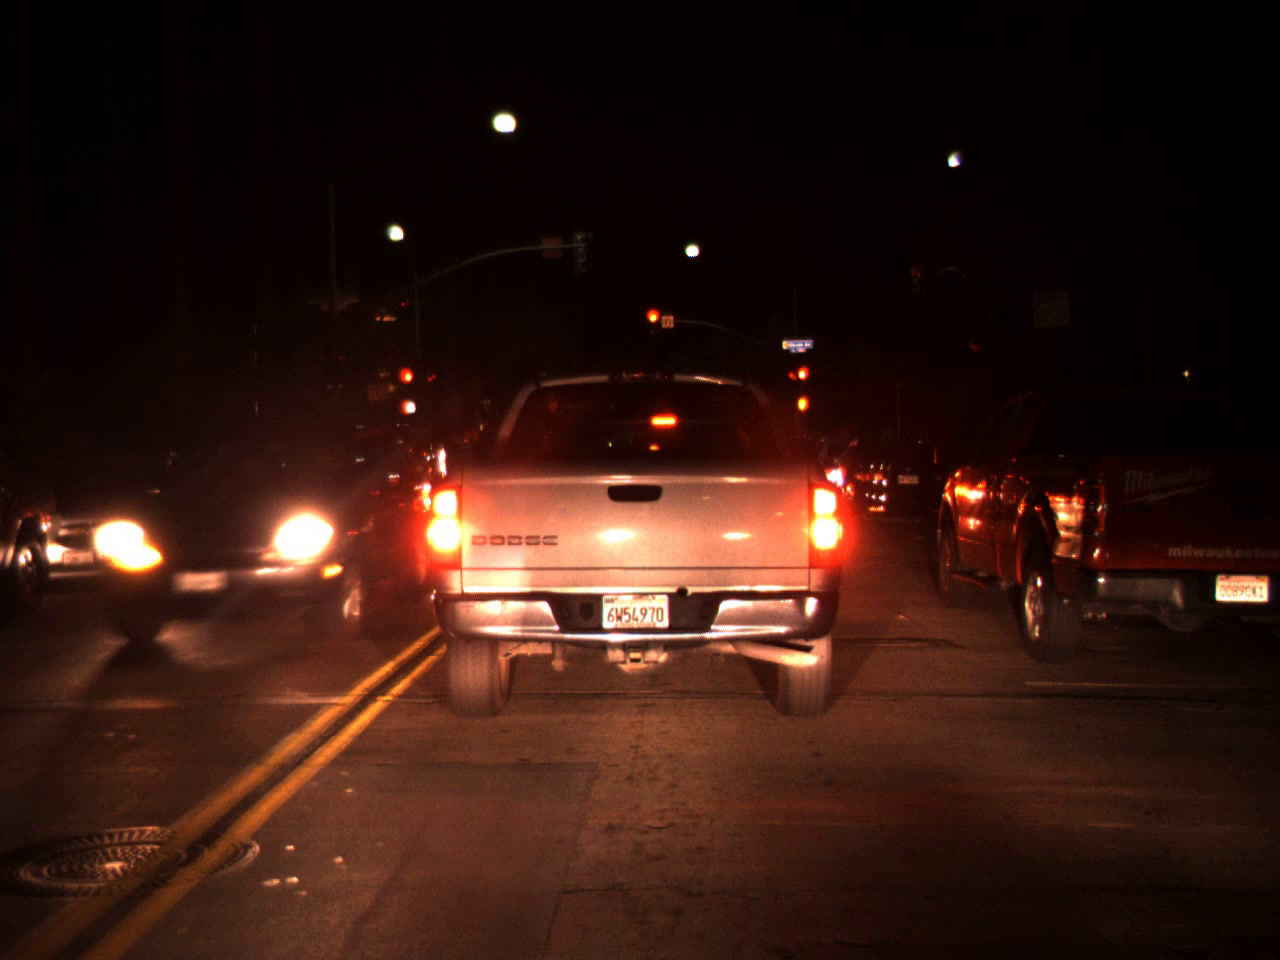stop: (793, 362, 814, 397), (398, 367, 416, 399), (645, 307, 661, 339)
